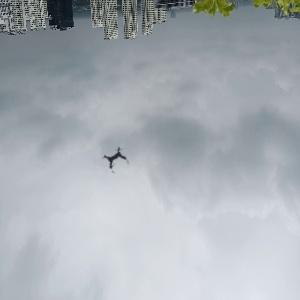drone: (92, 133, 143, 184)
